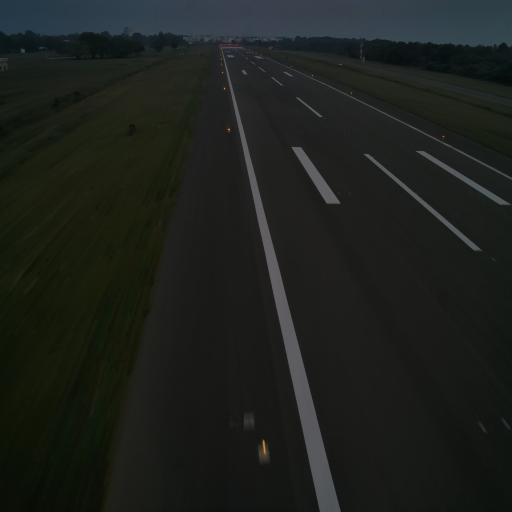off: (490, 255, 496, 266), (468, 190, 473, 198), (336, 190, 342, 196), (348, 189, 352, 198), (478, 191, 482, 199)
on: (253, 435, 274, 470), (441, 132, 446, 140), (226, 126, 231, 134)
